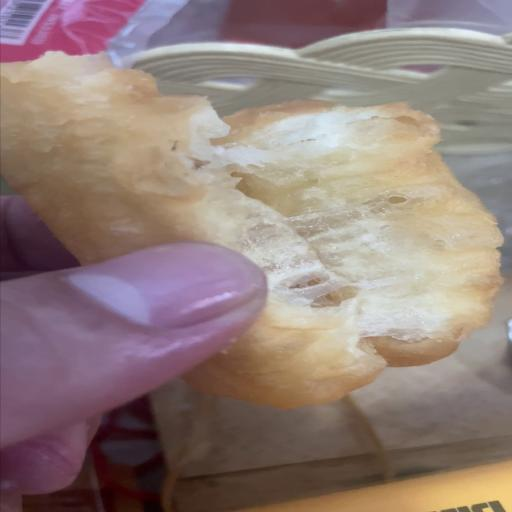street_golden_defect: (0, 81, 502, 404)
